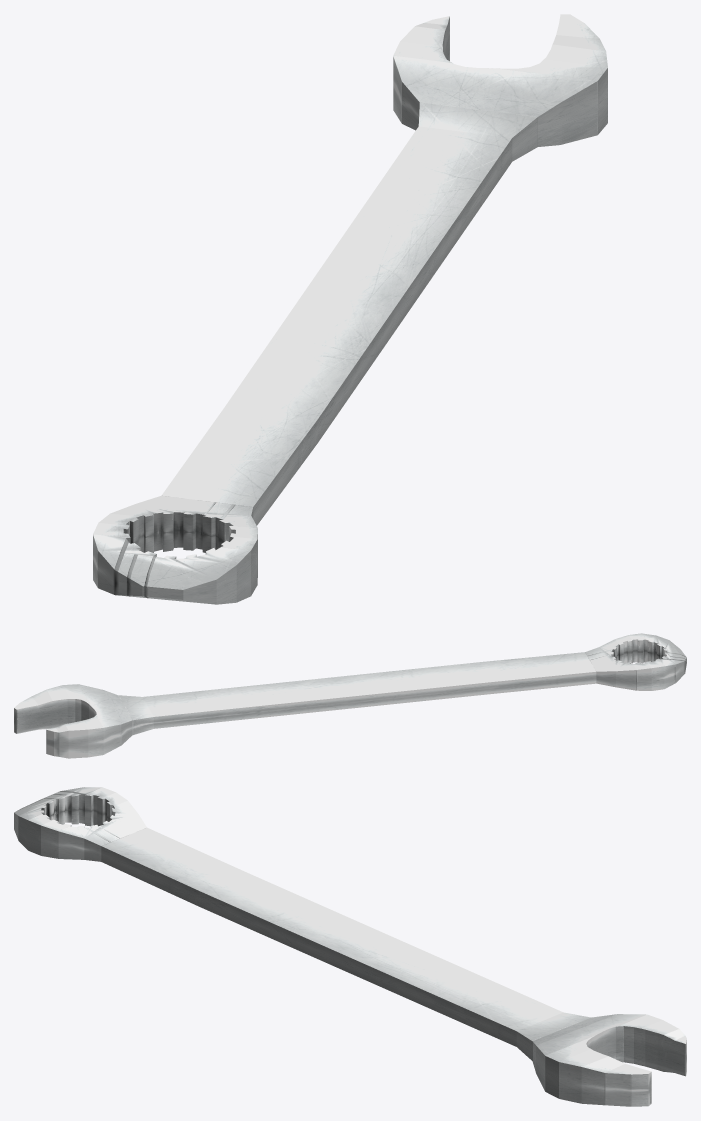
Rendered from llave pata cuervo.fbx.
3 renders of one model, top to bottom at view 1: azimuth 30°, elevation 25°; view 2: azimuth 150°, elevation 25°; view 3: azimuth 270°, elevation 25°, orthographic. The views are drawn at different scales.
Parts seen in each view (by area): view 1: Cubo; view 2: Cubo; view 3: Cubo.
Boxes of the visible parts, box(x1,y1,x2,y2) form: Cubo: box(93, 14, 607, 604); Cubo: box(14, 633, 686, 758); Cubo: box(14, 787, 686, 1106).
Bounding box in the file's own units: 957 × 56.41 × 934.
Materials: 1 (1 with a texture image).
